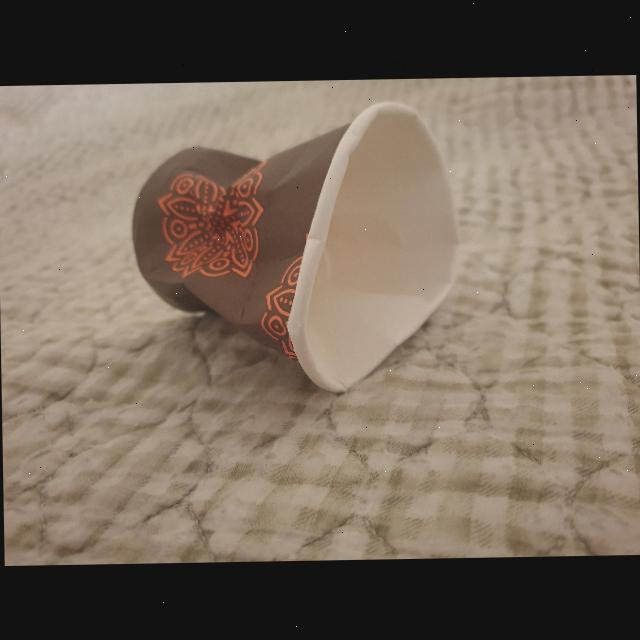trash: (127, 99, 476, 408)
